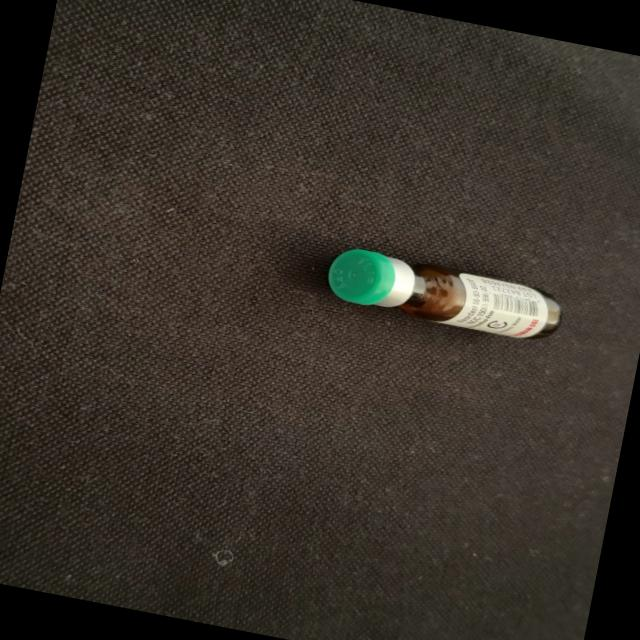midazolm: (325, 245, 562, 345)
